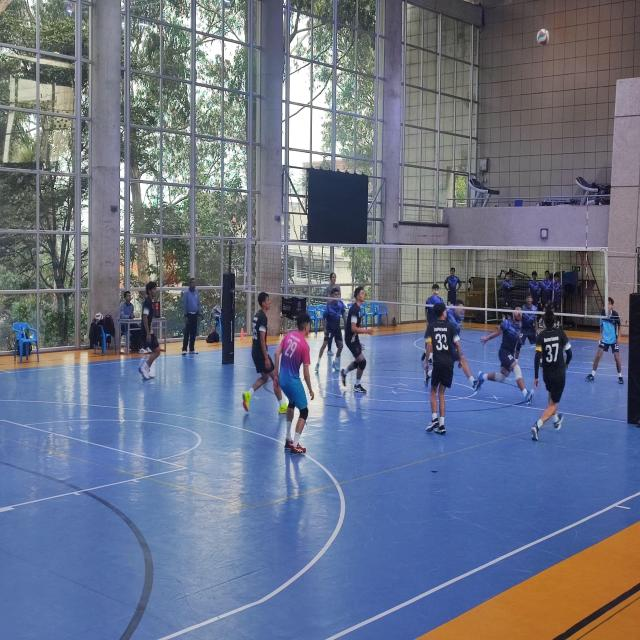volleyball: (536, 28, 550, 45), (95, 312, 103, 322)
